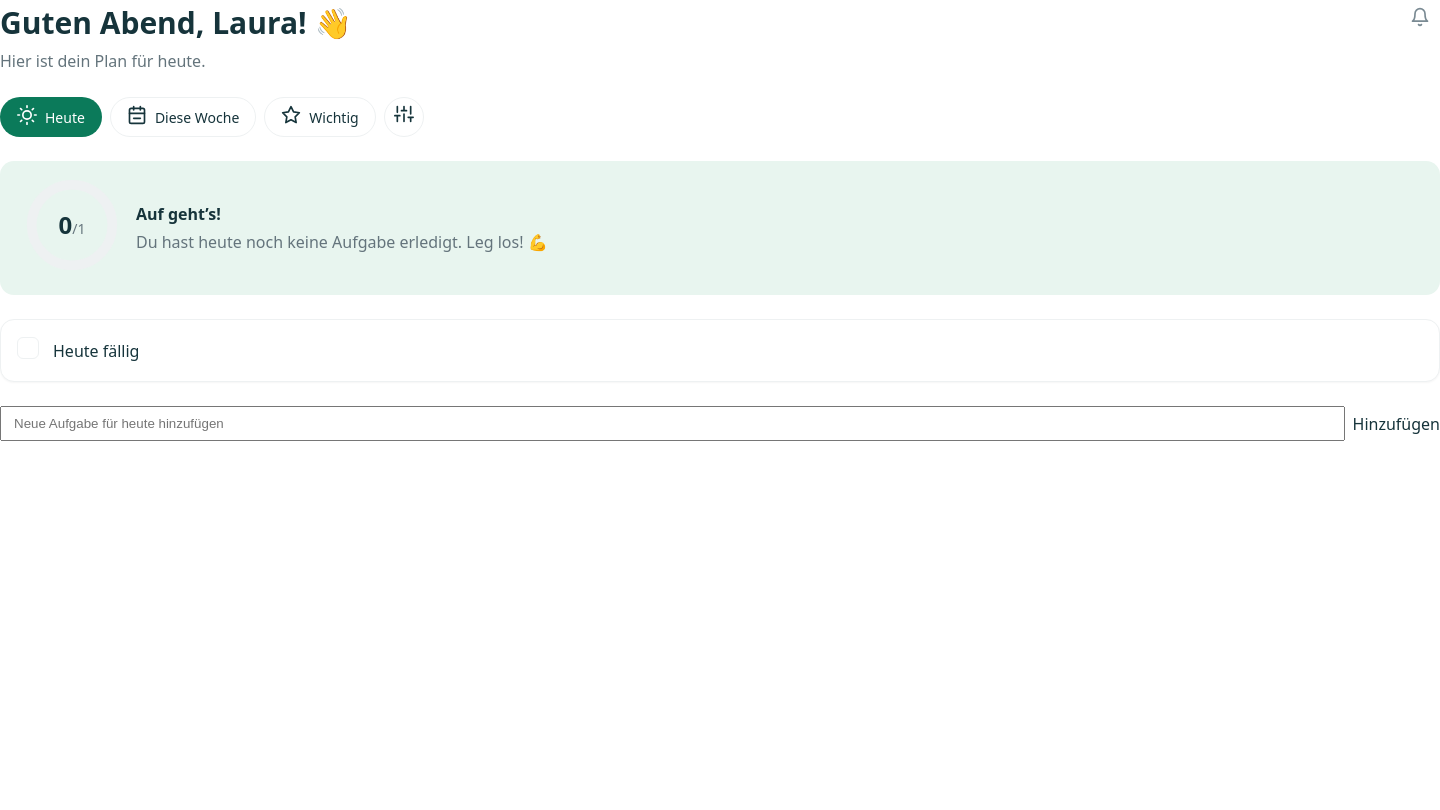
AufgabenPageComponent › Detail-/Bearbeitungsansicht (TDP-38) › opens the detail panel with the clicked card and saves an edit straight to the store
Click the element with class "app-task-item__content" at (96, 350), box x1=53 y1=340 x2=139 y2=362
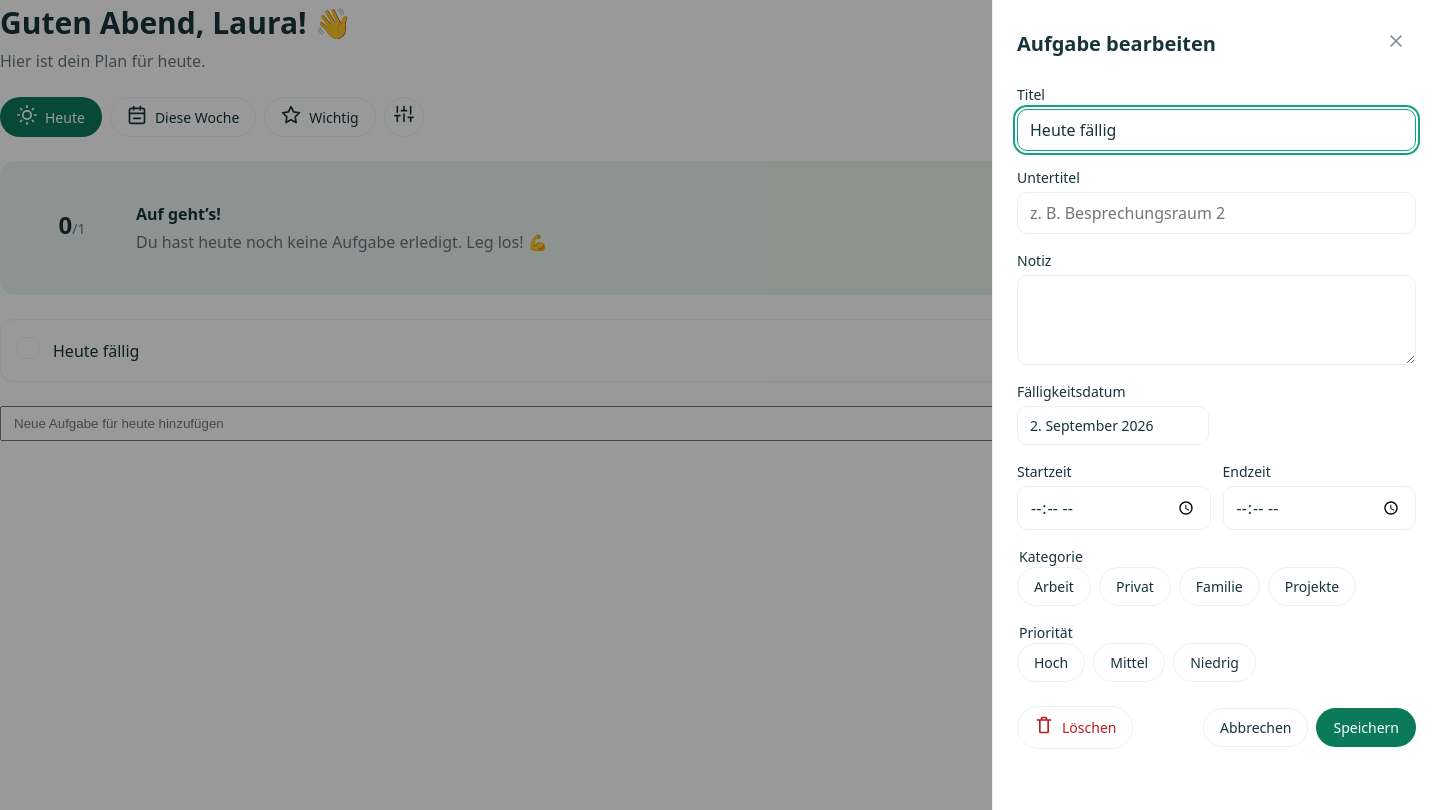
Now the field with id "task-detail-panel-title" holds "Heute fällig", box x1=1017 y1=109 x2=1416 y2=151
Submit the form with class "task-detail-panel__form", box x1=993 y1=64 x2=1439 y2=773
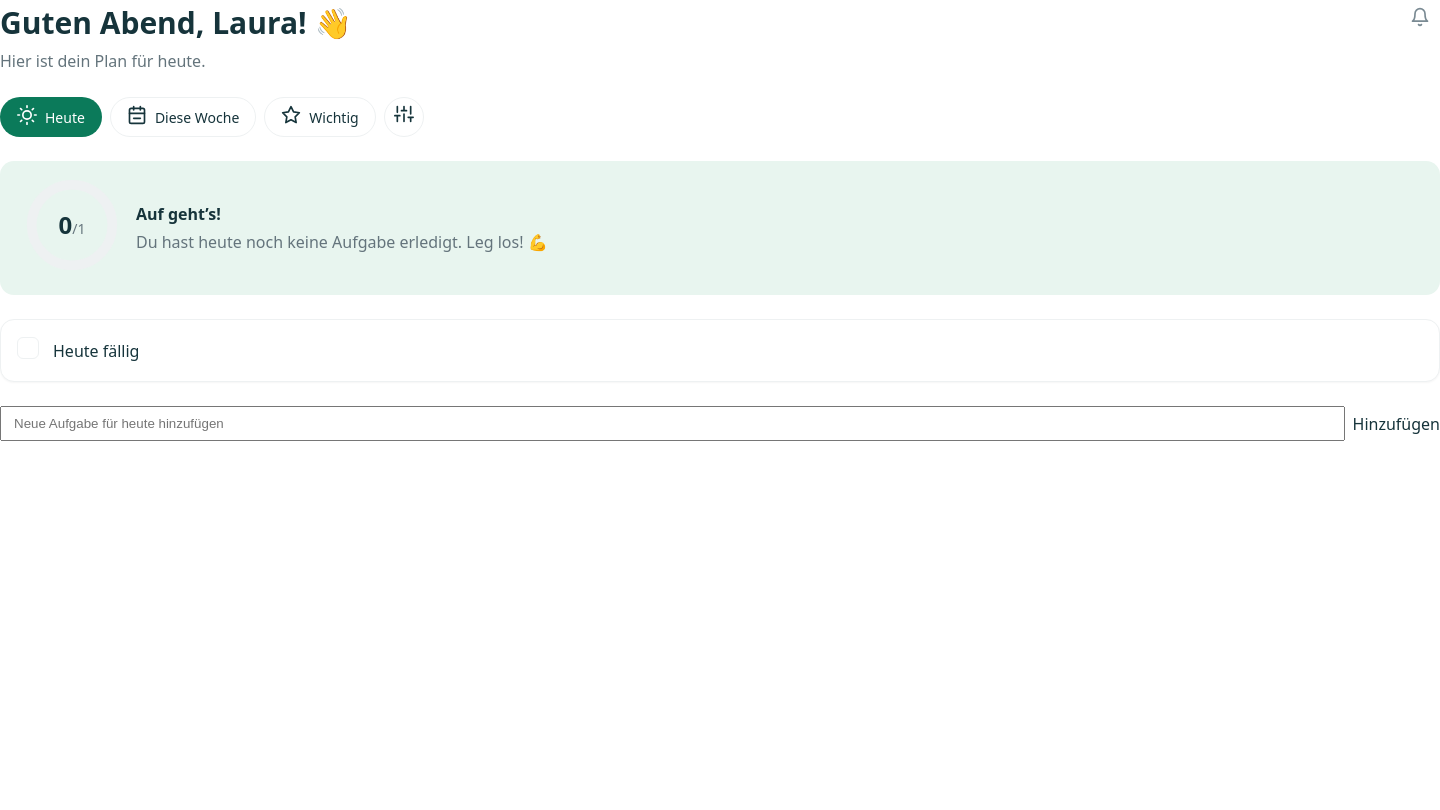
Now the dialog with class "task-detail-panel" is gone
